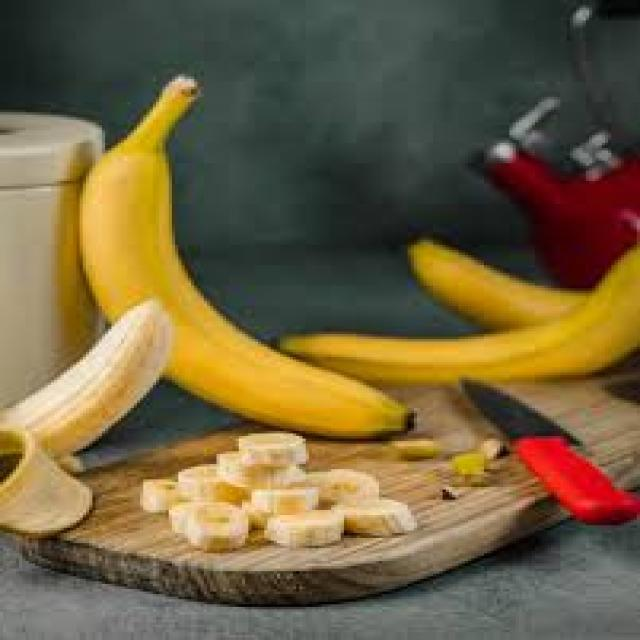Banana: (77, 71, 417, 438), (274, 217, 637, 386)
